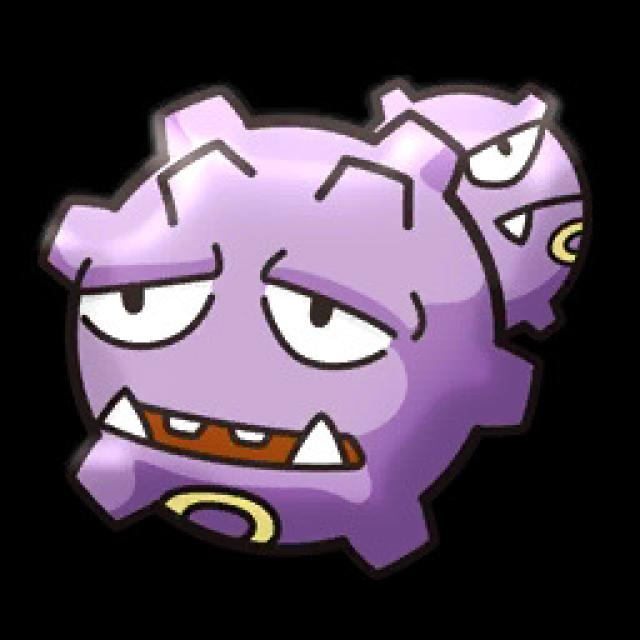Weezing: (42, 80, 590, 546)
